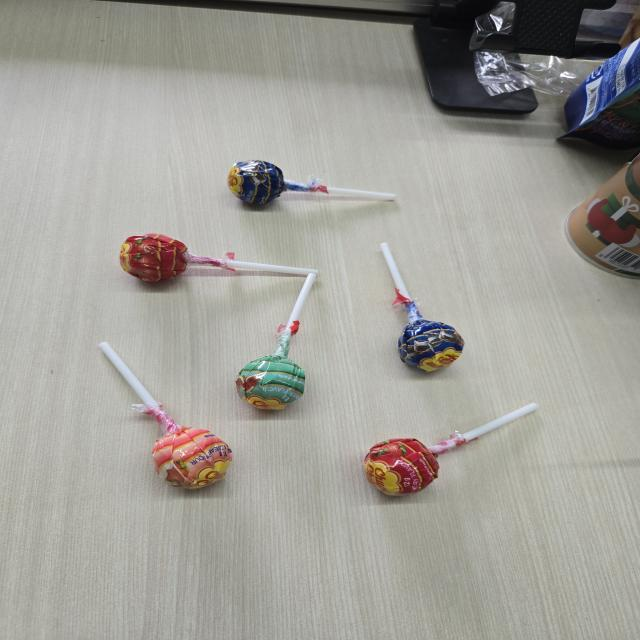lollipop: (95, 336, 234, 493), (360, 402, 540, 501), (232, 274, 321, 420), (379, 234, 470, 376), (116, 230, 326, 291), (225, 154, 399, 216)
